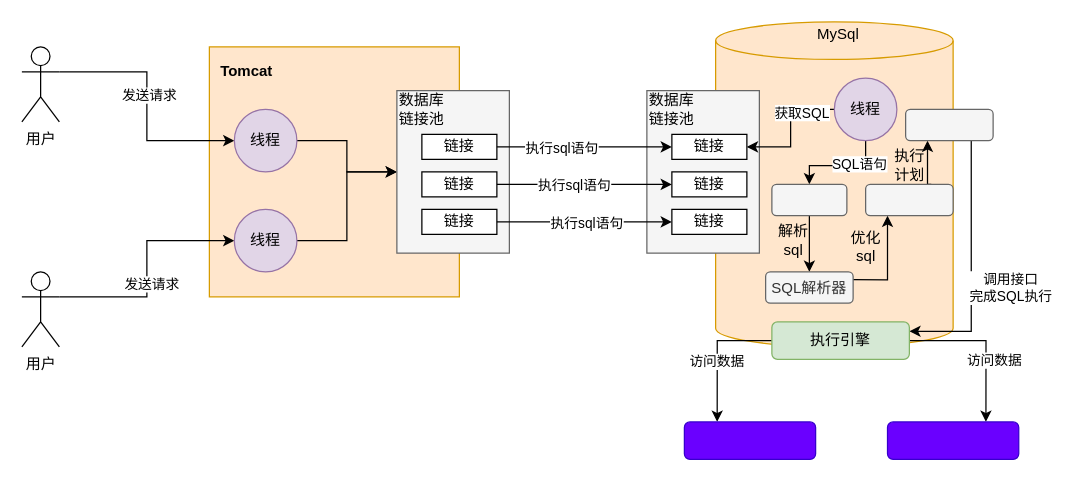
Image size: 1074x481. Some labels were removed from this diagram. Here are the shapes that lost their labels. From the top down, the centre of each, then its label:
At [948,124]: "SQL执行器".
At [809,199]: "SQL接口".
At [908,199]: "SQL优化器".
At [749,440]: "内存 （存放数据）".
At [952,440]: "磁盘 （存放数据）".
